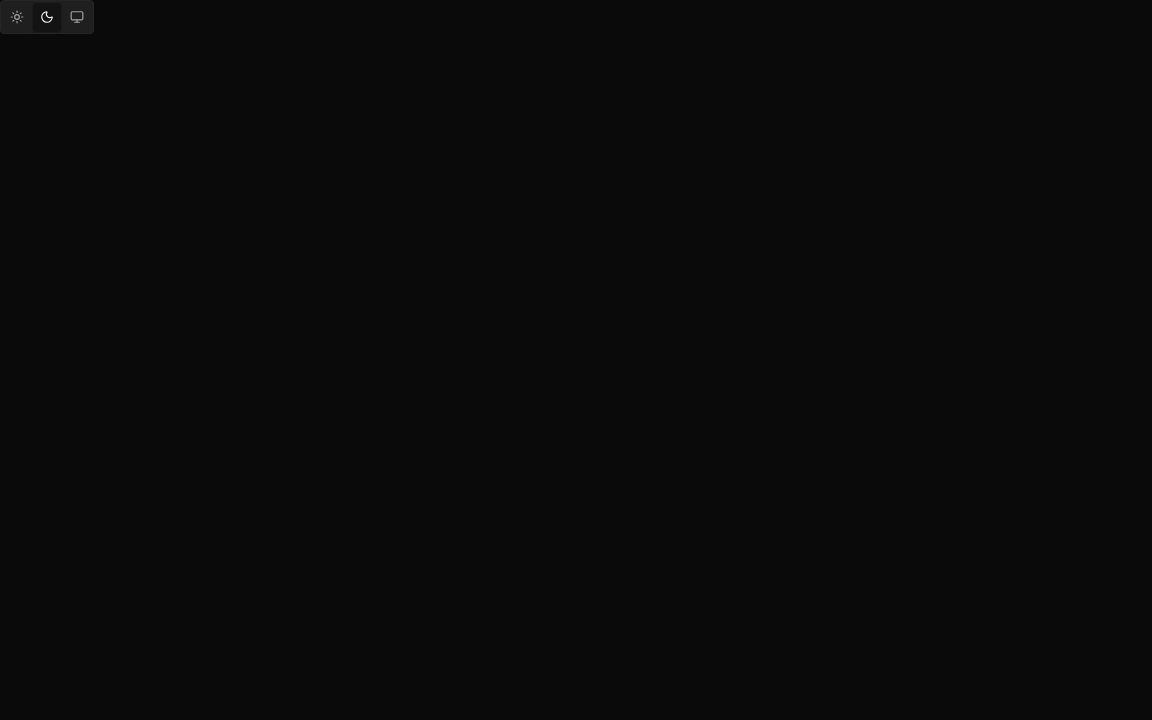
Test: ThemeSwitch › forgets the stored theme when System is picked
This screenshot has width=1152, height=720.
Click the radio button named "System": x=77, y=17 [63,3,91,31]
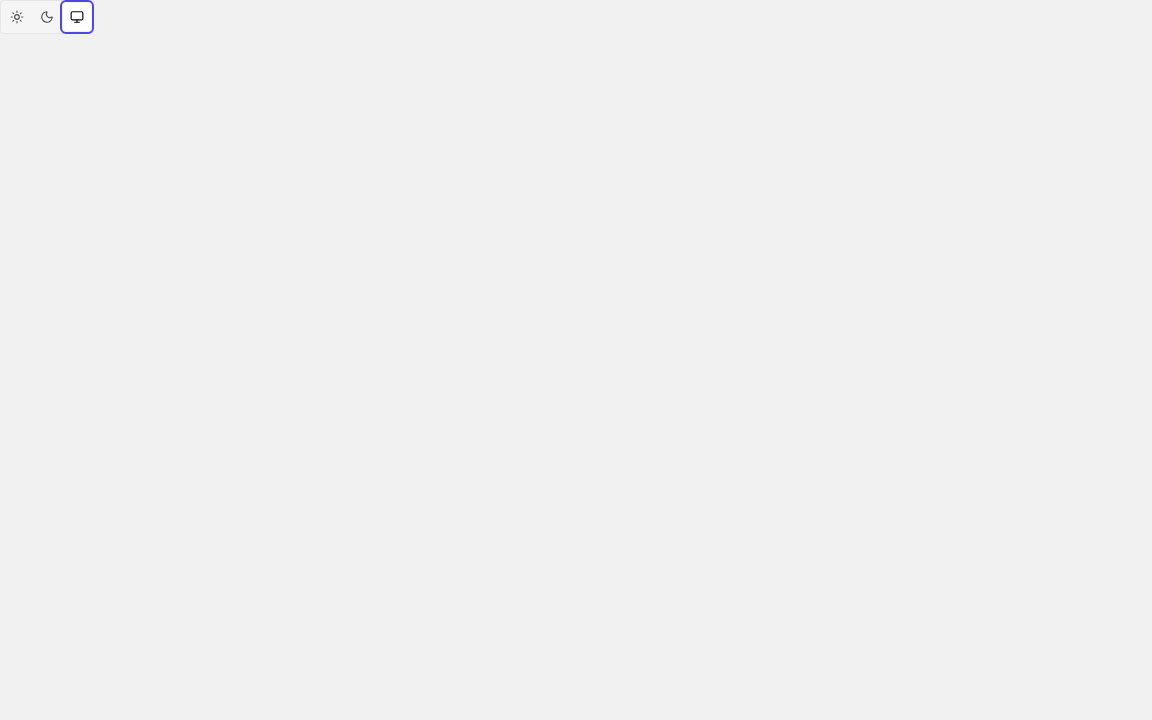
Expected: the radio button named "System" is checked, [63,3,91,31]
